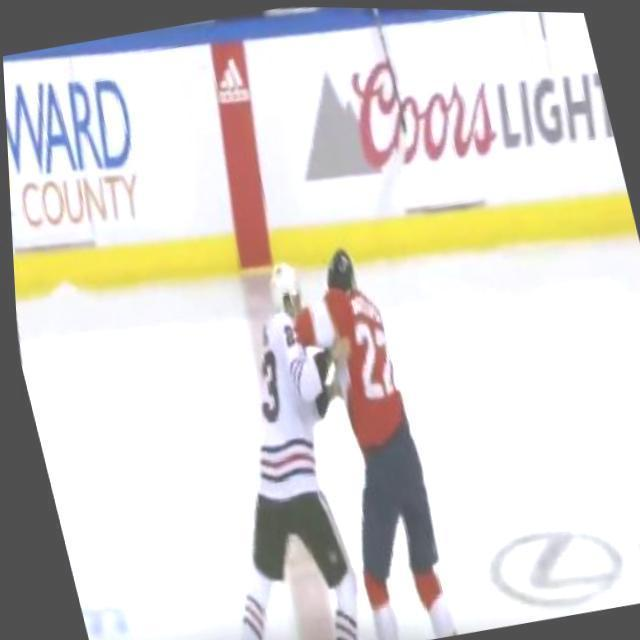fight: (169, 221, 493, 640)
